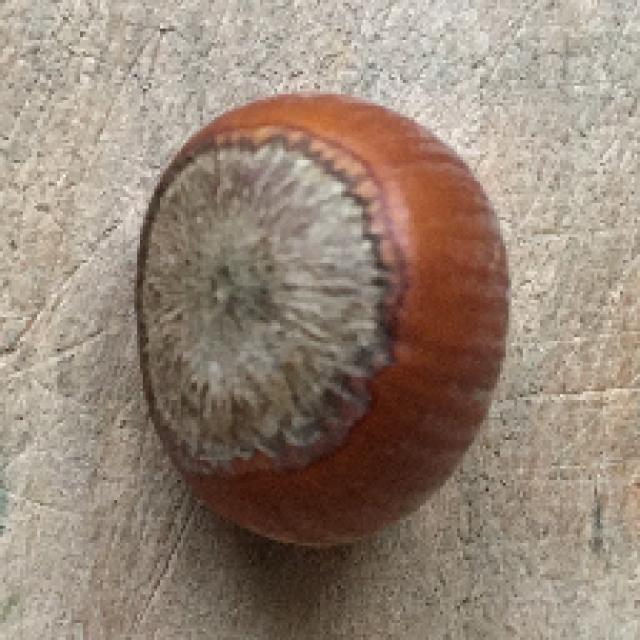qualityHazelnut: (138, 88, 510, 544)
